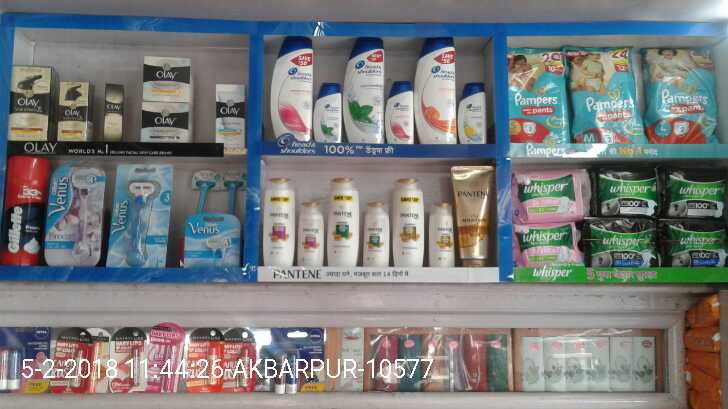gillete: (1, 158, 45, 267)
venus: (113, 166, 170, 268), (47, 167, 106, 263), (182, 212, 239, 268), (213, 167, 240, 209), (187, 167, 213, 209)
